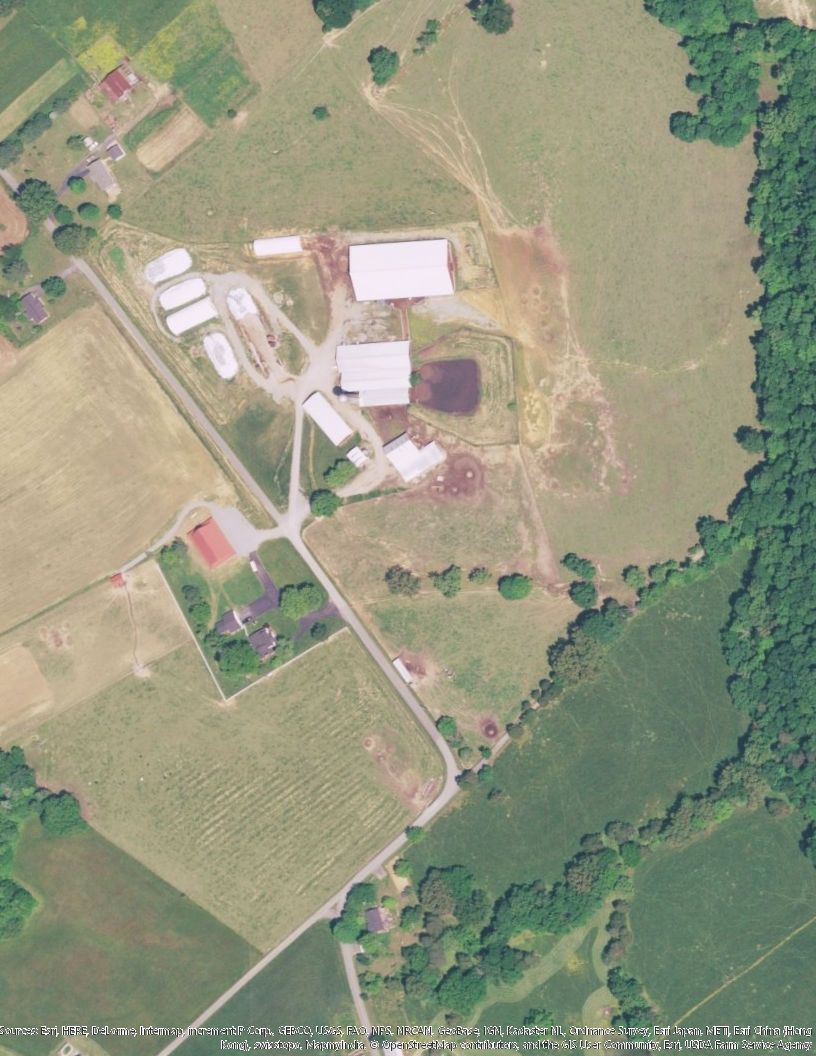cafo: (337, 237, 469, 303), (326, 337, 428, 410), (292, 389, 364, 451), (375, 426, 453, 481)
